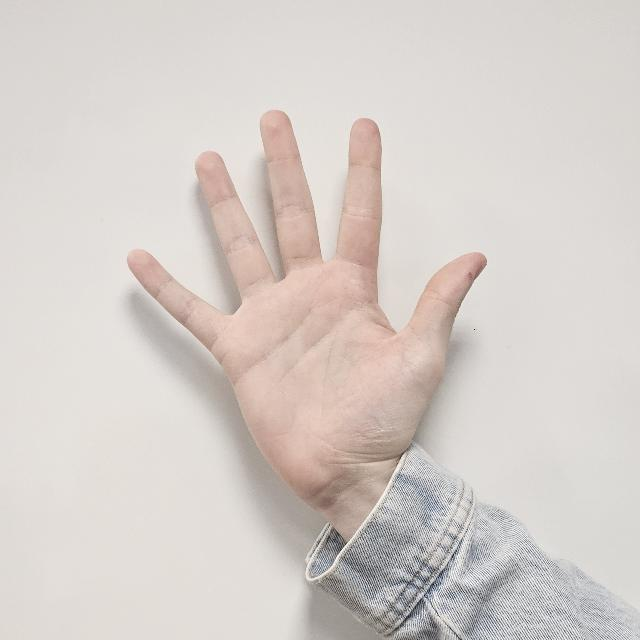X: (122, 104, 490, 506)
